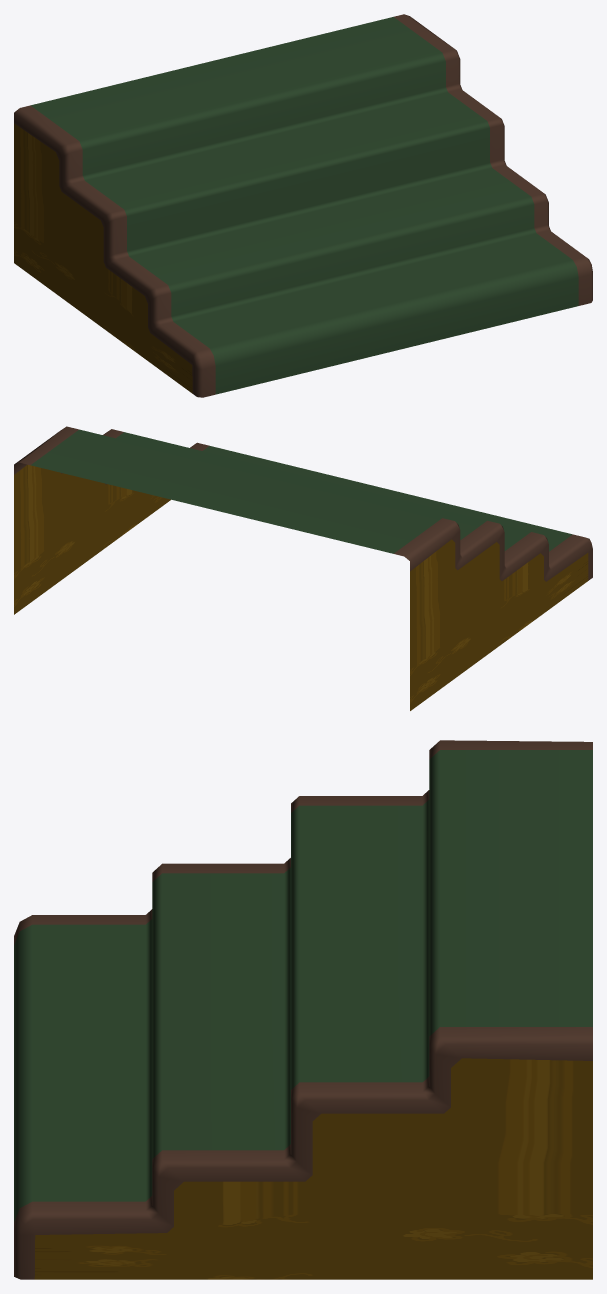
The model's file is stairs_wide_steps.gltf.
3 views of the same model, one above another, from view 1: azimuth 30°, elevation 25°; view 2: azimuth 150°, elevation 25°; view 3: azimuth 270°, elevation 25° (orthographic). The views are drawn at different scales.
Visible parts, largest first — view 1: Cube.004; view 2: Cube.004; view 3: Cube.004.
Part boxes in pixels (box(x1,y1,x2,y2)): Cube.004: box(14, 14, 592, 397); Cube.004: box(14, 426, 592, 710); Cube.004: box(14, 740, 592, 1279).
Bounding box in the file's own units: 2.91 × 1.08 × 2.36.
Materials: 3 (1 with a texture image).
